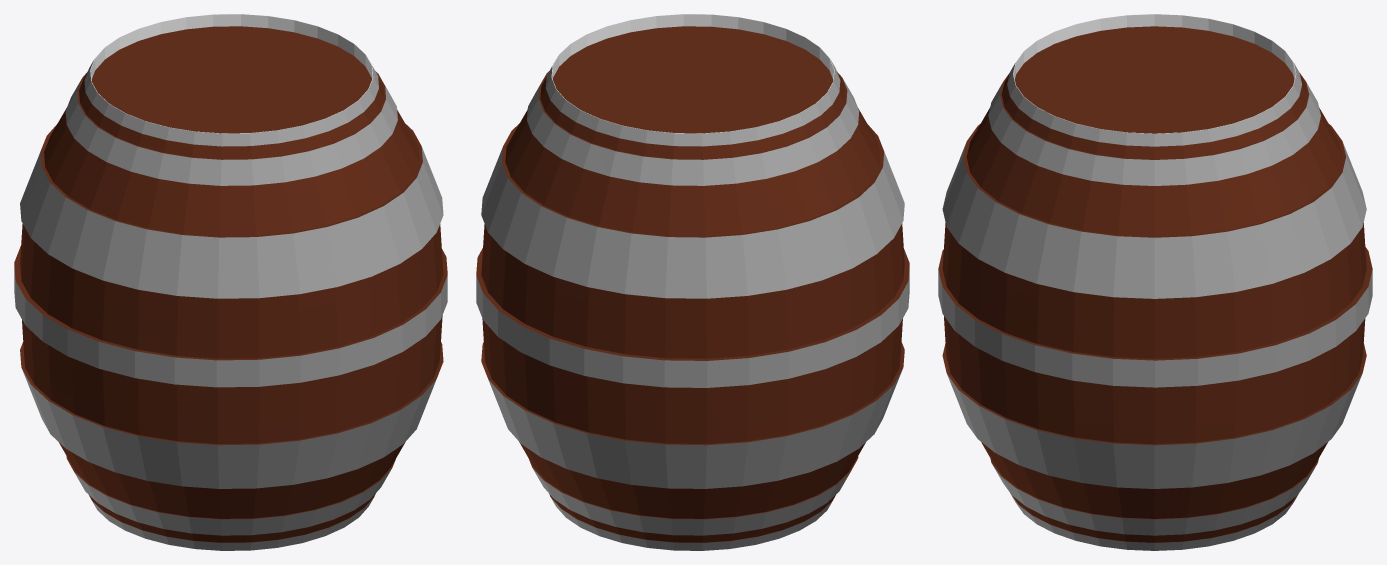
Rendered from barrel.fbx.
3 views of the same model, side by side, from view 1: azimuth 30°, elevation 25°; view 2: azimuth 150°, elevation 25°; view 3: azimuth 270°, elevation 25° (orthographic).
Parts seen in each view (by area): view 1: Cylinder; view 2: Cylinder; view 3: Cylinder.
Boxes of the visible parts, x1,y1,x2,y2 form: Cylinder: (14, 14, 447, 550); Cylinder: (476, 14, 909, 550); Cylinder: (938, 14, 1372, 550).
Size of the model in its own units: 265 by 280 by 265.
2 materials, 2 textured.
